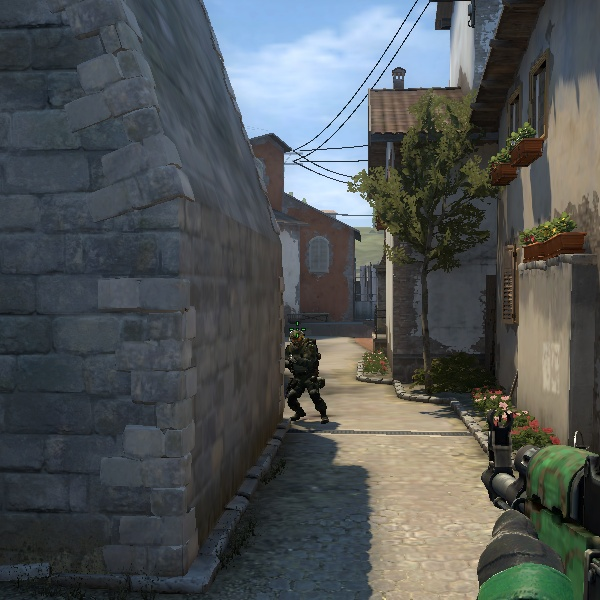ct_body: (279, 323, 332, 423)
